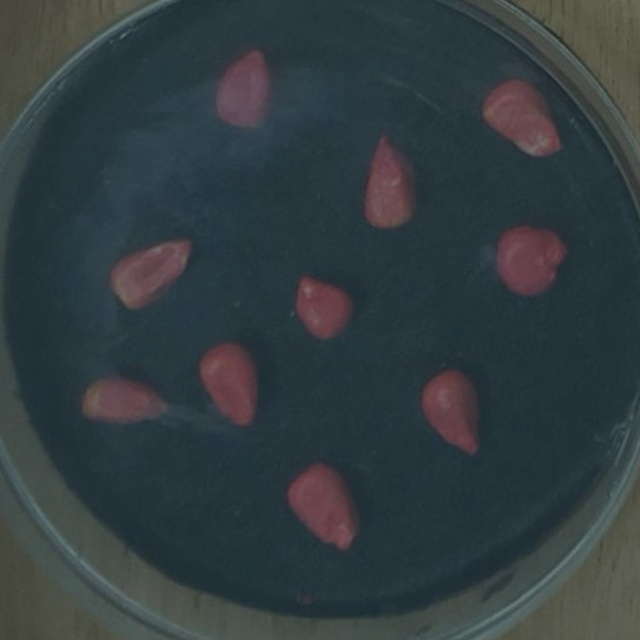Zea mays: (278, 454, 369, 559), (475, 70, 571, 165), (102, 227, 200, 320), (489, 215, 577, 306), (413, 360, 489, 463), (357, 125, 425, 238), (191, 333, 267, 432), (208, 40, 282, 134), (285, 267, 365, 349), (76, 368, 180, 431)
